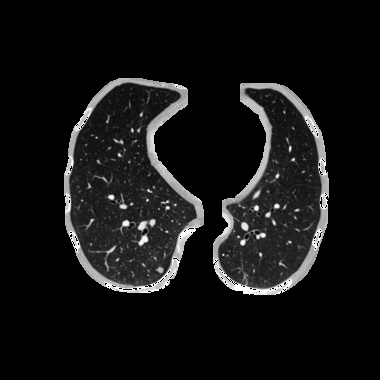PN: (157, 267, 163, 273)
